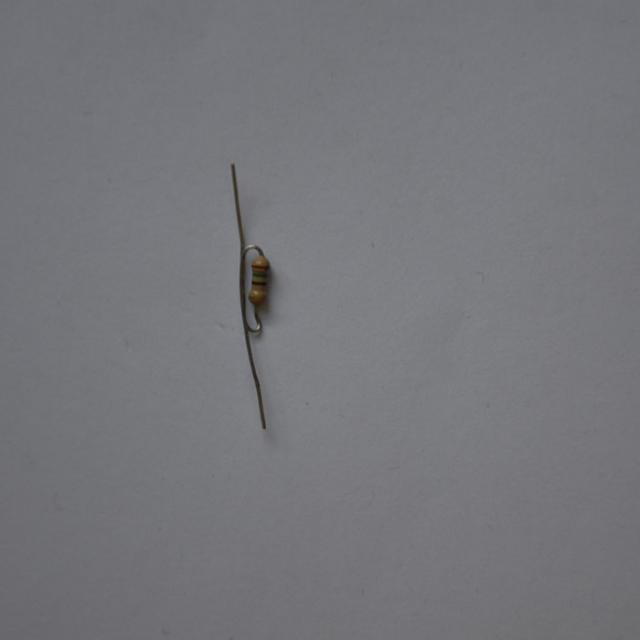black: (252, 281, 267, 286)
brown: (253, 264, 270, 270)
gold: (249, 295, 265, 301)
green: (254, 273, 267, 277)
resistor: (242, 254, 285, 312)
